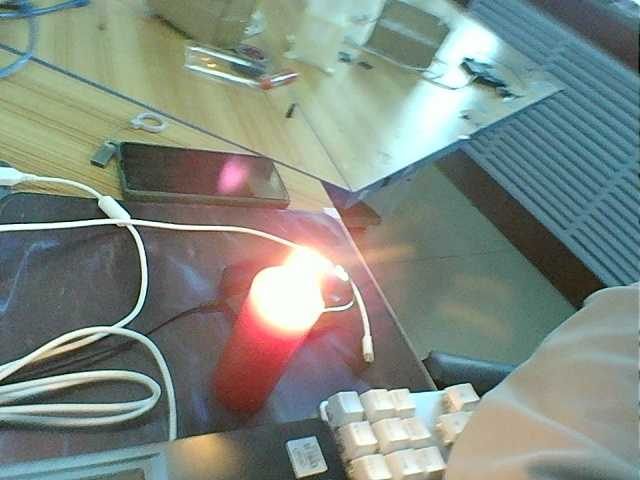candle: (212, 266, 325, 422)
fire: (257, 229, 332, 322), (207, 154, 267, 204)
